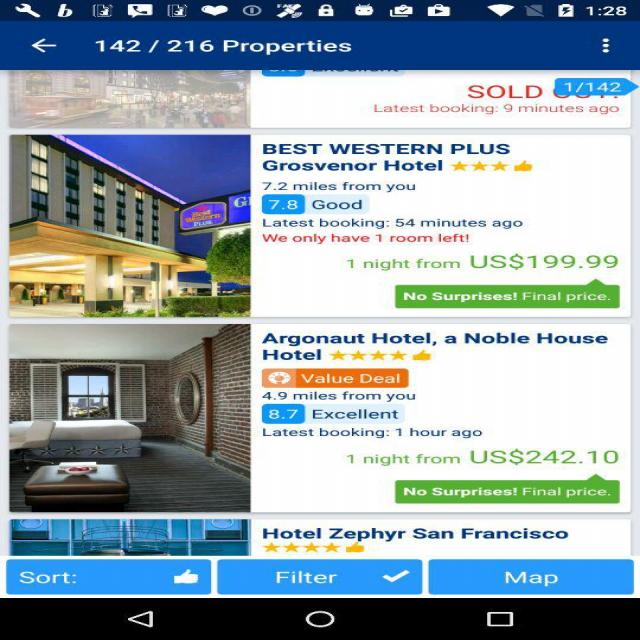button: (269, 328, 627, 503), (252, 147, 626, 292), (259, 77, 640, 112), (262, 521, 619, 550), (434, 560, 640, 590), (244, 560, 409, 595), (498, 26, 640, 55), (2, 23, 112, 58), (74, 562, 202, 592)
icon: (578, 557, 620, 599), (570, 32, 640, 54), (352, 566, 436, 584), (17, 29, 72, 53), (163, 568, 196, 578)
image: (2, 134, 256, 309), (17, 325, 244, 487), (4, 70, 252, 125), (19, 520, 248, 557)
text: (280, 178, 520, 235), (258, 330, 616, 366), (255, 375, 419, 447), (360, 255, 640, 294), (268, 136, 546, 174), (256, 516, 594, 546), (76, 29, 377, 52), (350, 91, 638, 115), (219, 568, 350, 594), (374, 455, 640, 467), (444, 564, 616, 581), (439, 80, 554, 99), (22, 571, 118, 588)
